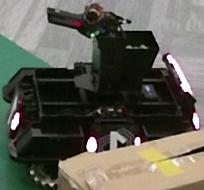armor_1: (87, 136, 143, 154)
left_1: (98, 127, 134, 155)
light: (167, 54, 195, 97)
